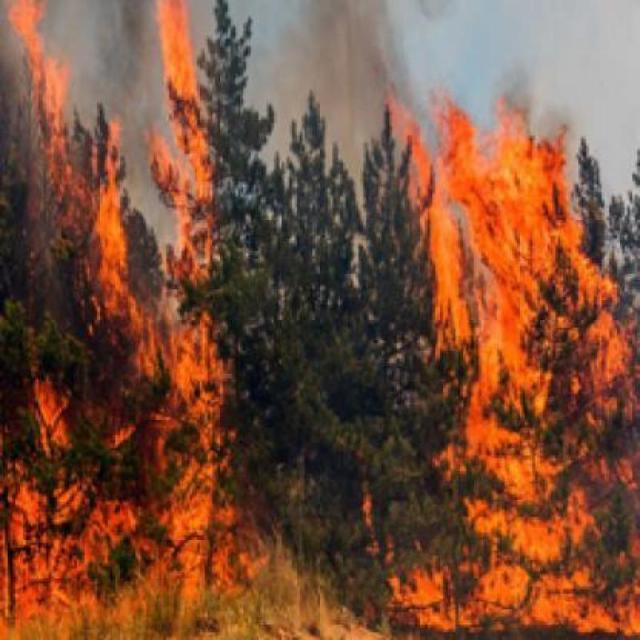Fire: (53, 135, 640, 640), (10, 441, 59, 640)
